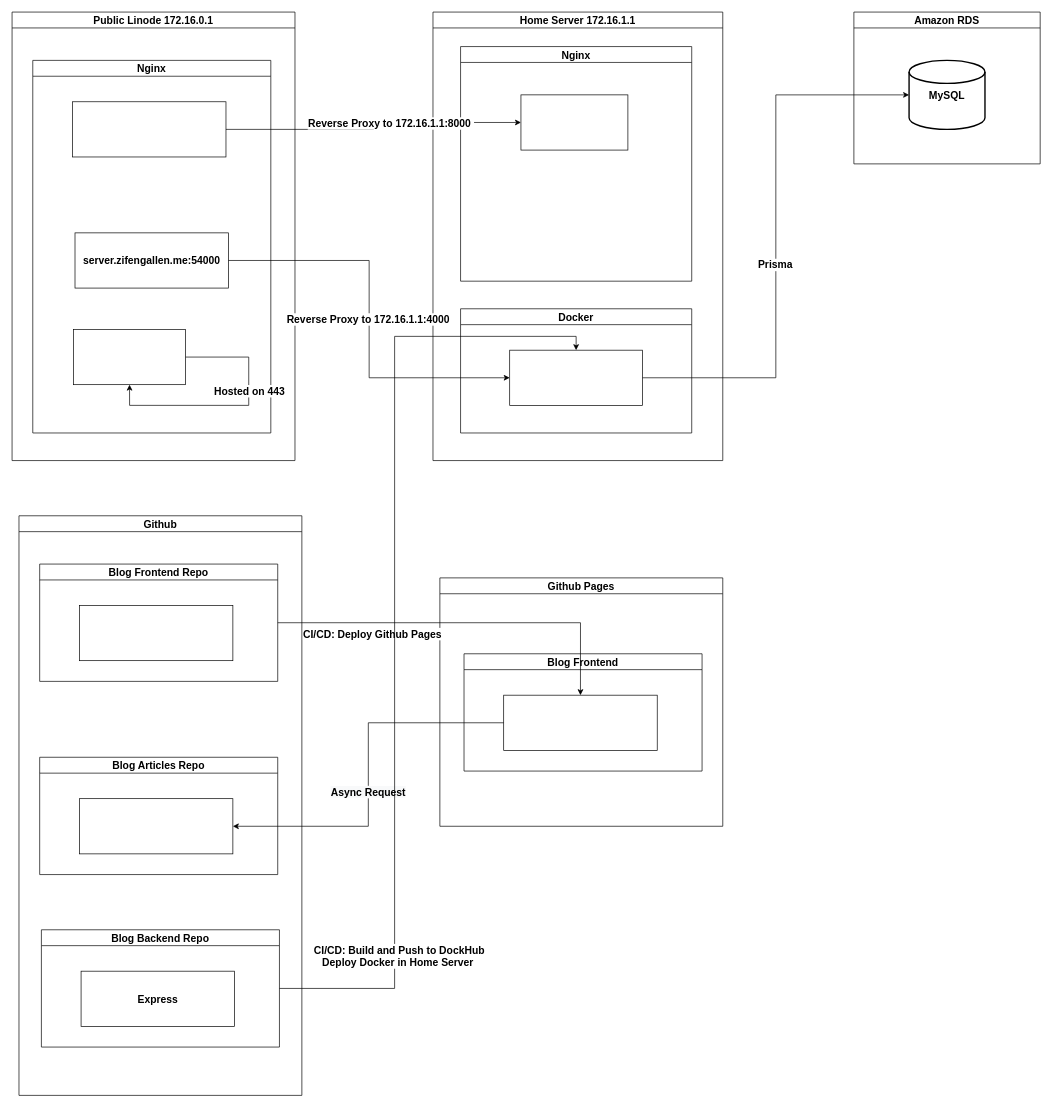
Image size: 1052x1107. Some labels were removed from this diagram. The centre of each missing label's shape, as x and y in pixels:
Blog Express Backend:4000: (576,377)
blog.zifengallen.me:443: (580,722)
linode.zifengallen.me: (129,357)
Markdown Content: (156,826)
React: (156,633)
server.zifengallen.me:443: (149,129)
Status Page: 8000: (574,122)
